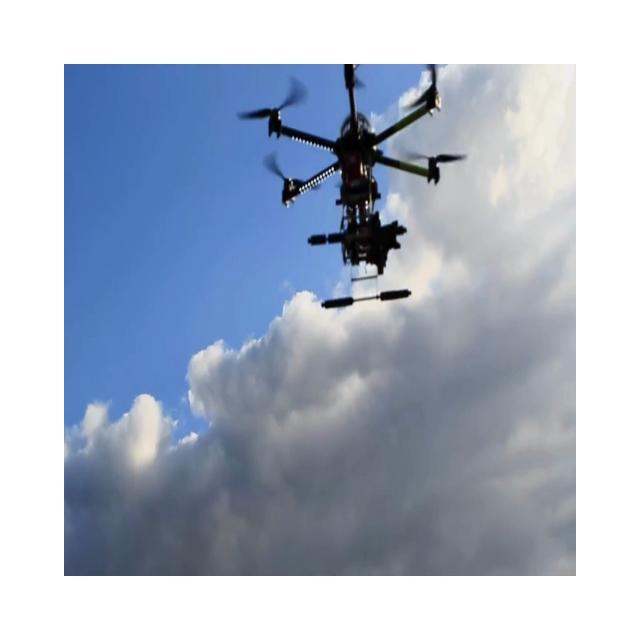drone: (236, 63, 468, 309)
